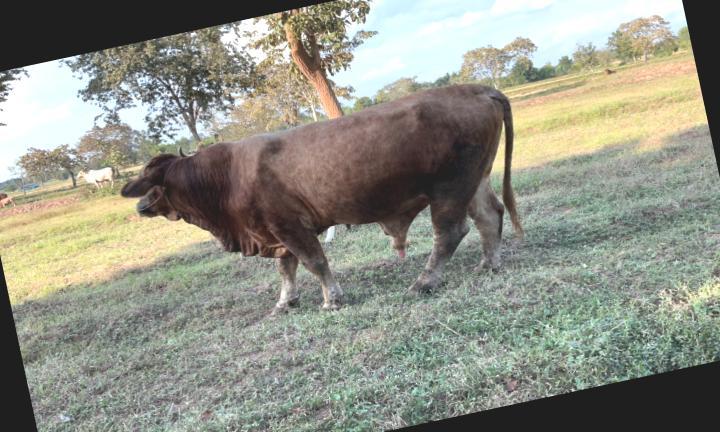Charolais: (122, 84, 522, 313)
